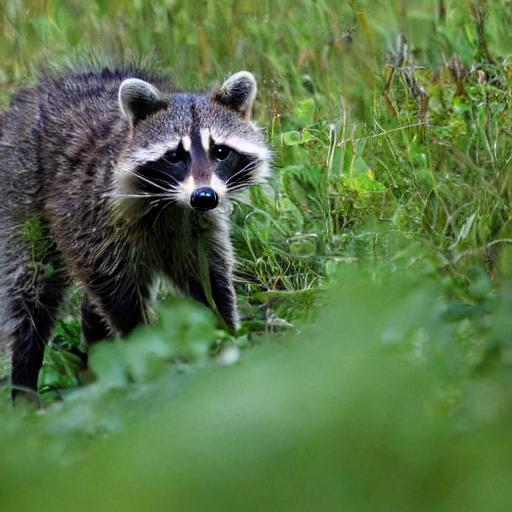raccoon: (0, 52, 276, 339)
